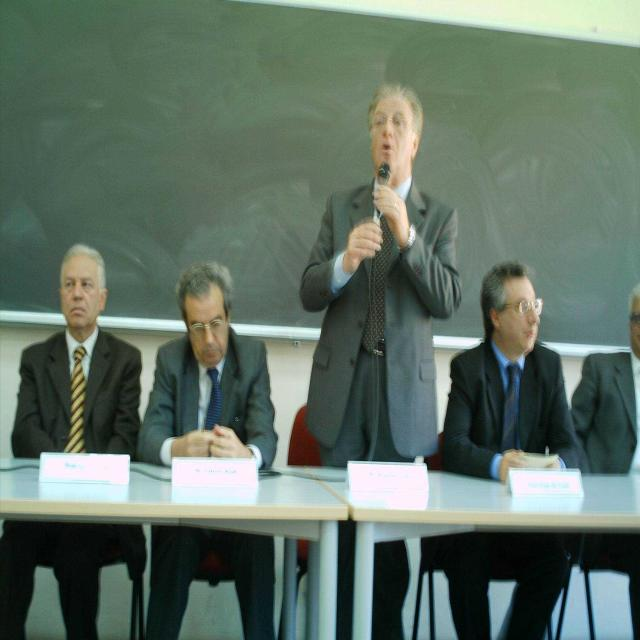microphone: (374, 161, 392, 225)
